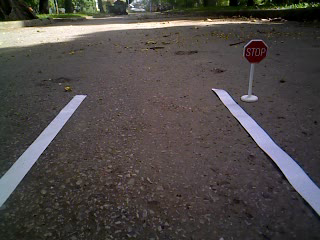Stop: (241, 39, 271, 66)
